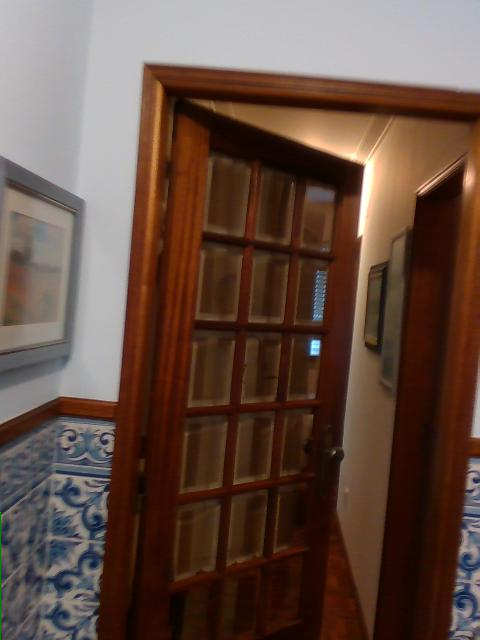open_door: (98, 61, 478, 639)
